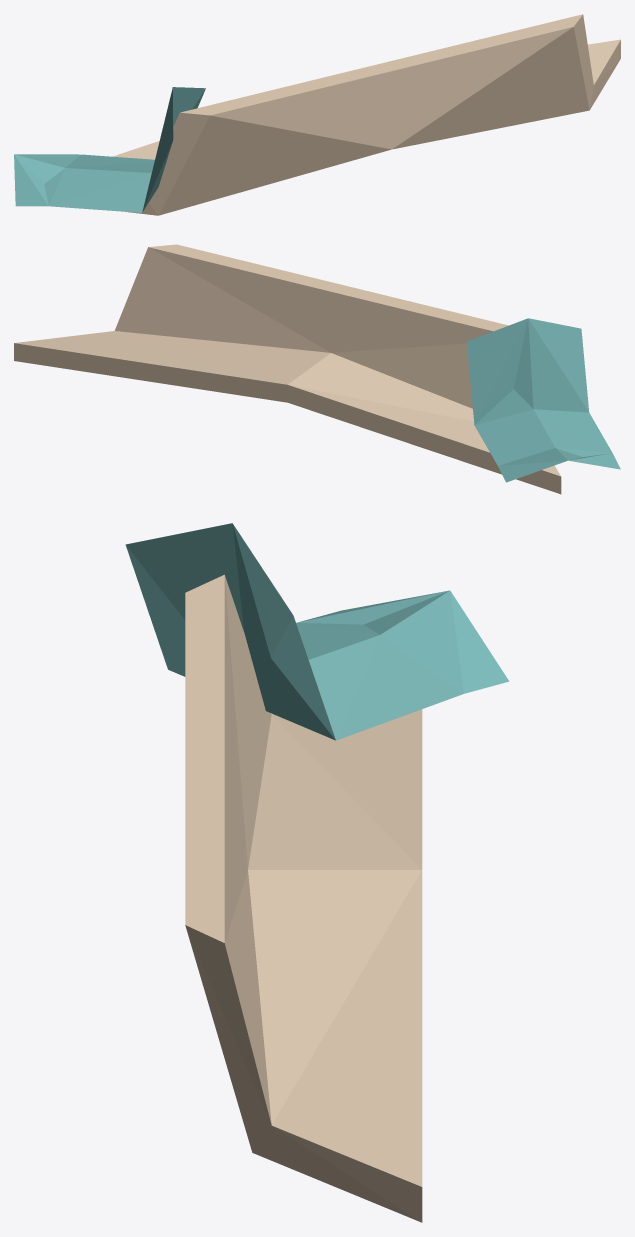
The model's file is panel_covered_deco.fbx.
The picture shows the model from 3 angles, top to bottom: view 1: azimuth 30°, elevation 25°; view 2: azimuth 150°, elevation 25°; view 3: azimuth 270°, elevation 25°; orthographic projection. The views are drawn at different scales.
Parts seen in each view (by area): view 1: panel_covered_deco; view 2: panel_covered_deco; view 3: panel_covered_deco.
Part boxes in pixels (box(x1,y1,x2,y2)): panel_covered_deco: box(14, 14, 620, 215); panel_covered_deco: box(14, 244, 620, 494); panel_covered_deco: box(125, 523, 509, 1222).
Size of the model in its own units: 172 by 34.09 by 48.62.
